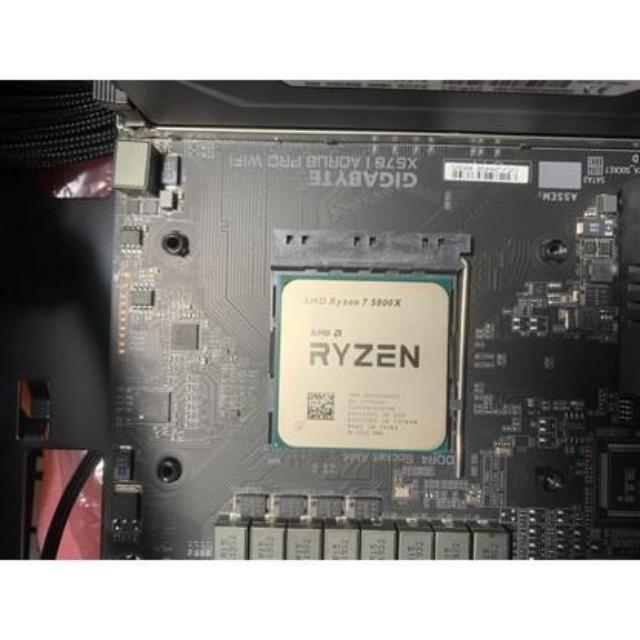CPU: (275, 276, 450, 456)
